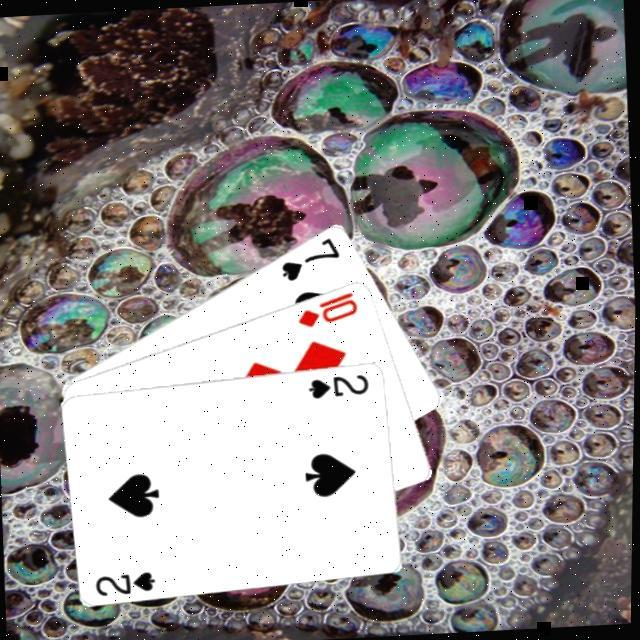10D: (297, 286, 365, 328)
2S: (308, 368, 376, 400), (96, 566, 162, 598)
7S: (280, 231, 346, 282)
